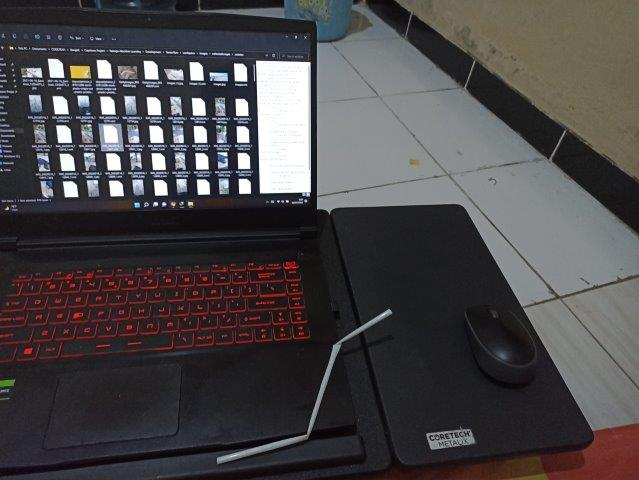sedotan: (219, 310, 391, 464)
